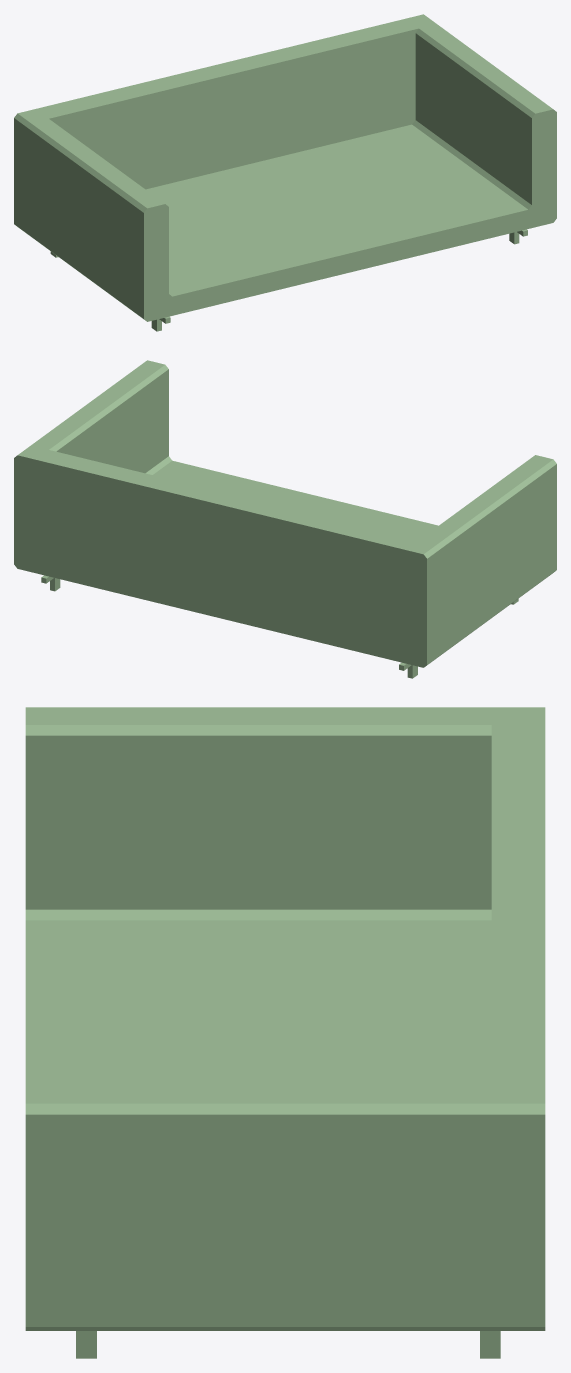
File: Couch.FBX
3 views of the same model, one above another, from view 1: azimuth 30°, elevation 25°; view 2: azimuth 150°, elevation 25°; view 3: azimuth 270°, elevation 25° (orthographic). The views are drawn at different scales.
Parts seen in each view (by area): view 1: Couch; view 2: Couch; view 3: Couch.
Boxes of the visible parts, bbox=[...] form: Couch: bbox=[14, 14, 556, 331]; Couch: bbox=[14, 360, 556, 678]; Couch: bbox=[25, 707, 545, 1358].
Size of the model in its own units: 3.23 by 1.03 by 1.76.
